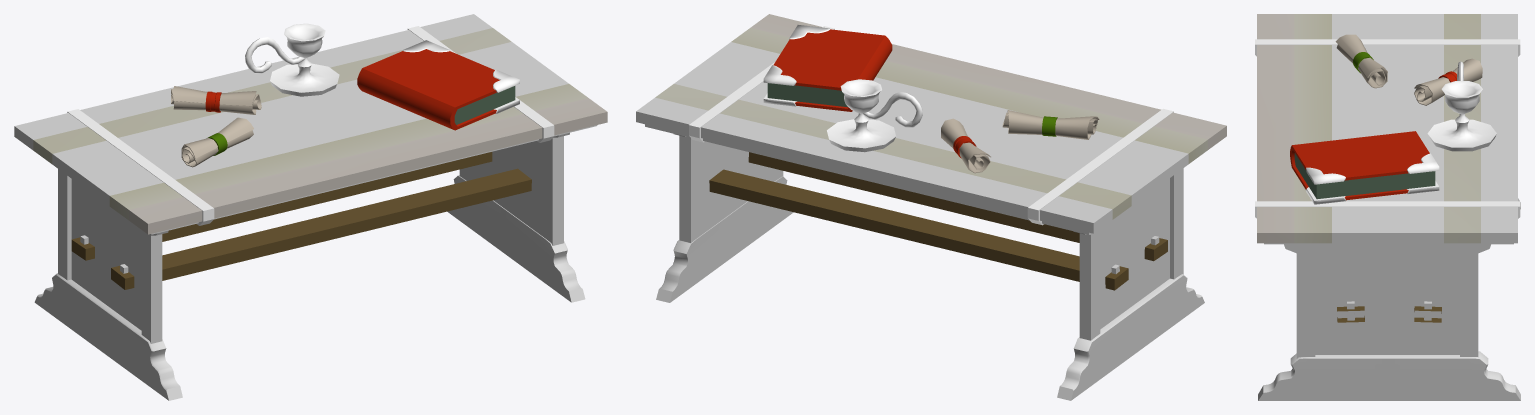
The model's file is map_table.glb.
3 renders of one model, left to right at view 1: azimuth 30°, elevation 25°; view 2: azimuth 150°, elevation 25°; view 3: azimuth 270°, elevation 25°, orthographic. The views are drawn at different scales.
Parts seen in each view (by area): view 1: Cube084, Cube133, CandleStick, Cube084_1, Cube156, Cube152, Cube133_1; view 2: Cube084, Cube133, CandleStick, Cube084_1, Cube152, Cube156, Cube133_1; view 3: Cube084, Cube133, Cube084_1, CandleStick, Cube133_1, Cube152, Cube156.
Boxes of the visible parts, box(x1,y1,x2,y2) form: Cube084: box(14, 14, 607, 400); Cube133: box(357, 49, 515, 130); CandleStick: box(245, 23, 339, 96); Cube084_1: box(67, 26, 554, 225); Cube156: box(171, 86, 261, 114); Cube152: box(181, 117, 253, 167); Cube133_1: box(403, 40, 519, 113); Cube084: box(636, 14, 1226, 400); Cube133: box(767, 29, 892, 111); CandleStick: box(827, 79, 922, 152); Cube084_1: box(689, 26, 1173, 225); Cube152: box(1002, 110, 1099, 139); Cube156: box(941, 118, 990, 173); Cube133_1: box(763, 25, 829, 106); Cube084: box(1257, 14, 1520, 400); Cube133: box(1290, 131, 1435, 200); Cube084_1: box(1255, 39, 1520, 218); CandleStick: box(1427, 61, 1496, 151); Cube133_1: box(1306, 153, 1439, 204); Cube152: box(1335, 34, 1387, 88); Cube156: box(1414, 58, 1482, 105).
Size of the model in its own units: 2.14 by 1.06 by 1.1.
